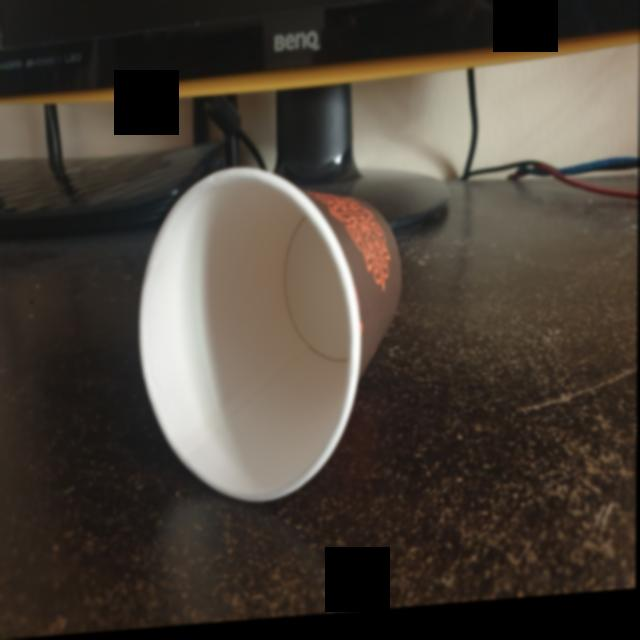cups: (135, 160, 404, 518)
